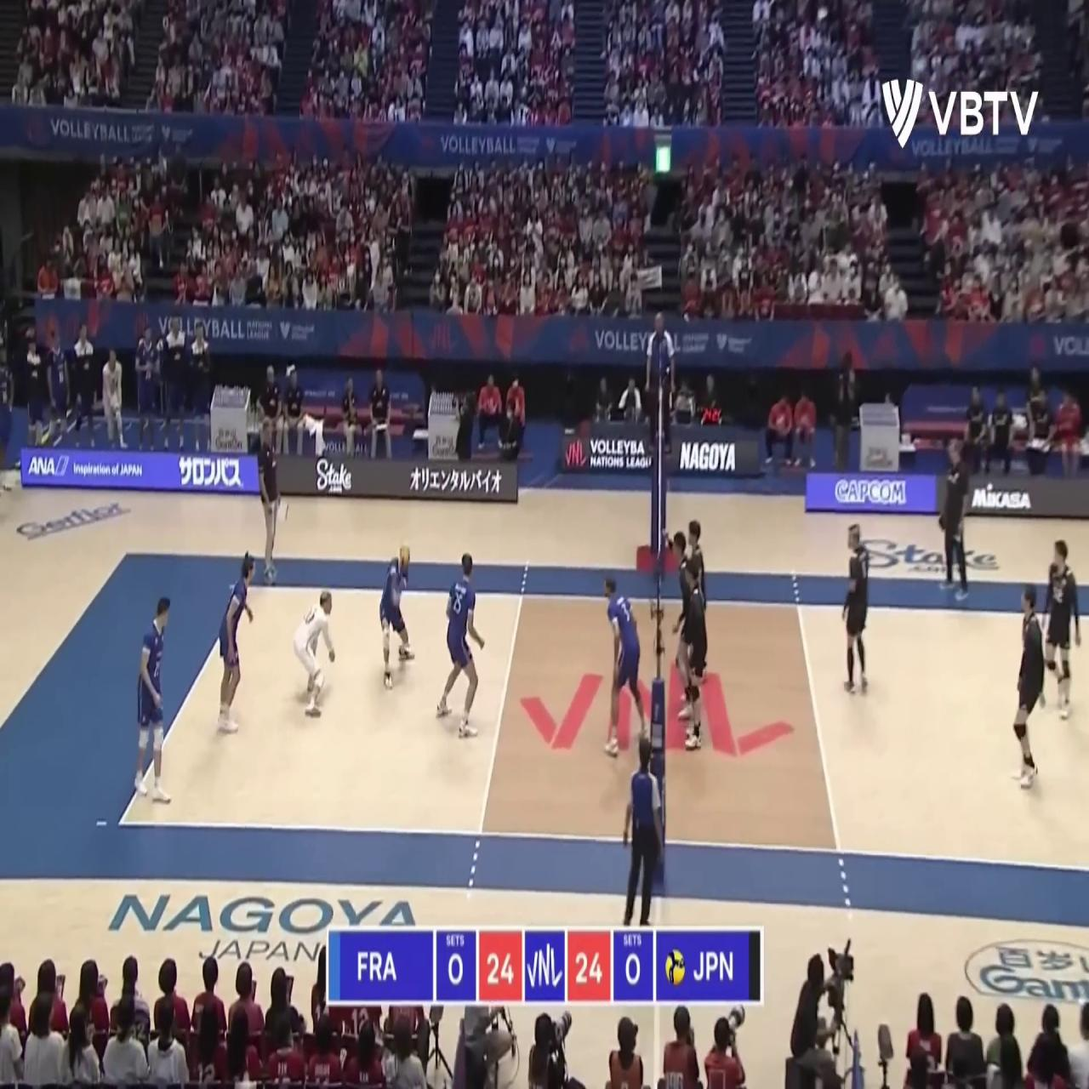ball: (399, 543, 411, 568)
